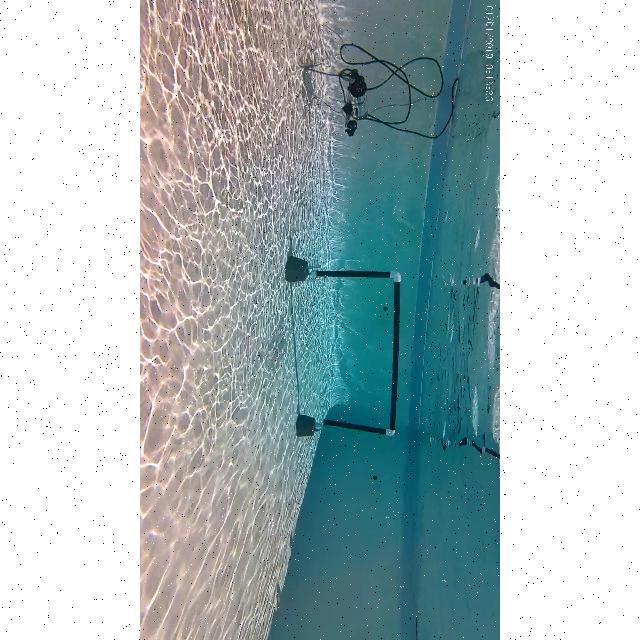prequal gate: (311, 271, 401, 437)
prequal gate leg l: (312, 268, 404, 286)
prequal gate leg r: (316, 414, 400, 438)
